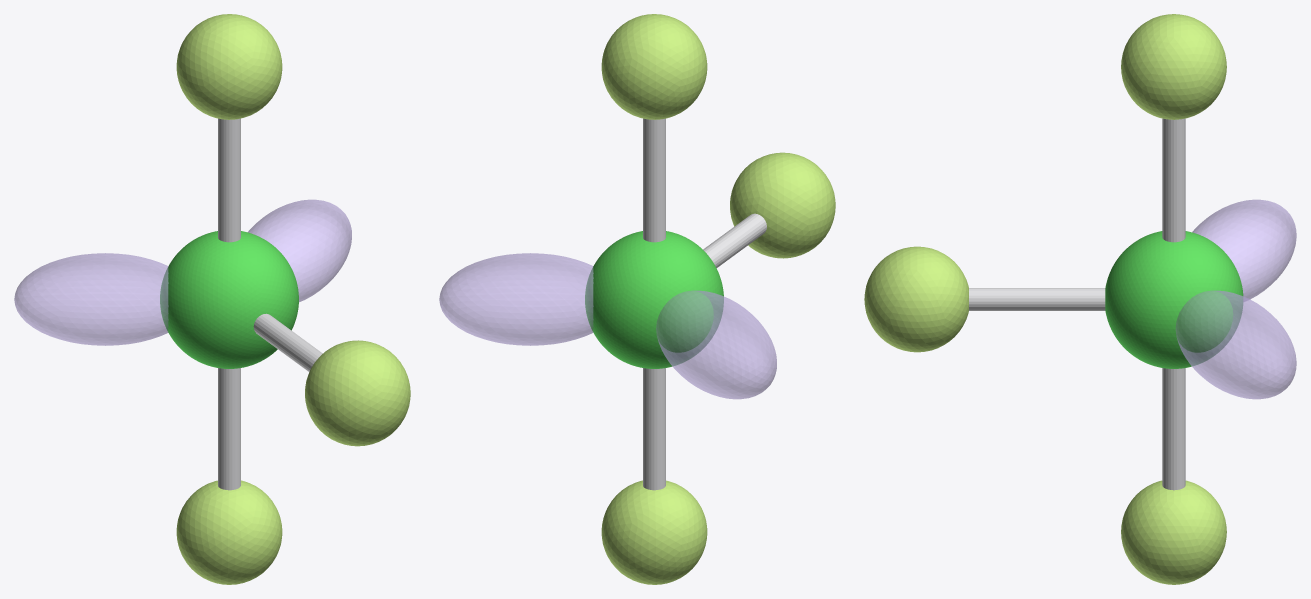
Rendered from ClF3.glb.
The picture shows the model from 3 angles, left to right: view 1: azimuth 30°, elevation 25°; view 2: azimuth 150°, elevation 25°; view 3: azimuth 270°, elevation 25°; orthographic projection.
Parts seen in each view (by area): view 1: Cl_centre, lone_pair_3, F_0, F_2, F_1, lone_pair_4, bond_0, bond_1, bond_2; view 2: Cl_centre, lone_pair_4, lone_pair_3, F_0, F_1, F_2, bond_0, bond_1, bond_2; view 3: Cl_centre, lone_pair_4, F_0, F_2, F_1, lone_pair_3, bond_2, bond_0, bond_1.
Boxes of the visible parts, box(x1,y1,x2,y2) form: Cl_centre: box(160, 231, 298, 368); lone_pair_3: box(14, 253, 168, 345); F_0: box(176, 14, 282, 119); F_2: box(305, 340, 410, 446); F_1: box(176, 480, 282, 584); lone_pair_4: box(248, 199, 351, 302); bond_0: box(218, 118, 240, 242); bond_1: box(218, 368, 240, 490); bond_2: box(253, 313, 322, 371); Cl_centre: box(585, 231, 723, 368); lone_pair_4: box(439, 253, 593, 345); lone_pair_3: box(656, 290, 776, 399); F_0: box(601, 14, 707, 119); F_1: box(601, 480, 707, 584); F_2: box(730, 152, 835, 258); bond_0: box(643, 118, 665, 242); bond_1: box(643, 368, 665, 490); bond_2: box(703, 213, 766, 267); Cl_centre: box(1105, 231, 1243, 368); lone_pair_4: box(1176, 290, 1296, 399); F_0: box(1121, 14, 1226, 119); F_2: box(864, 246, 968, 352); F_1: box(1121, 480, 1226, 584); lone_pair_3: box(1192, 199, 1296, 301); bond_2: box(969, 288, 1105, 310); bond_0: box(1162, 118, 1185, 242); bond_1: box(1162, 368, 1185, 490).
Size of the model in its own units: 0.2292 by 0.374 by 0.2611.
